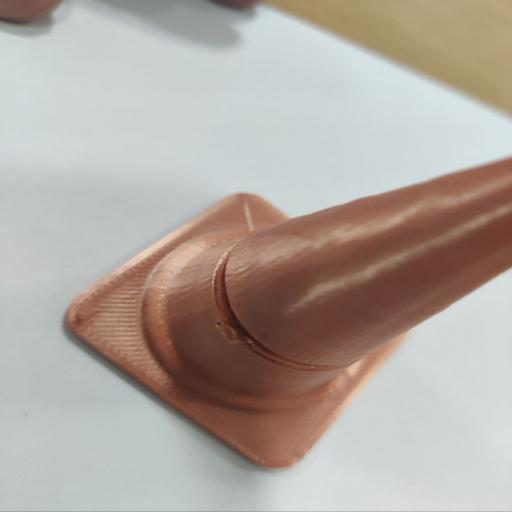cracks: (189, 259, 340, 378)
